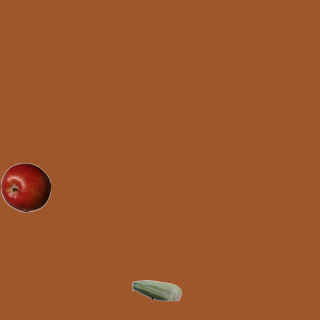Apple Braeburn: (0, 162, 50, 212)
Corn Husk: (131, 265, 181, 315)
